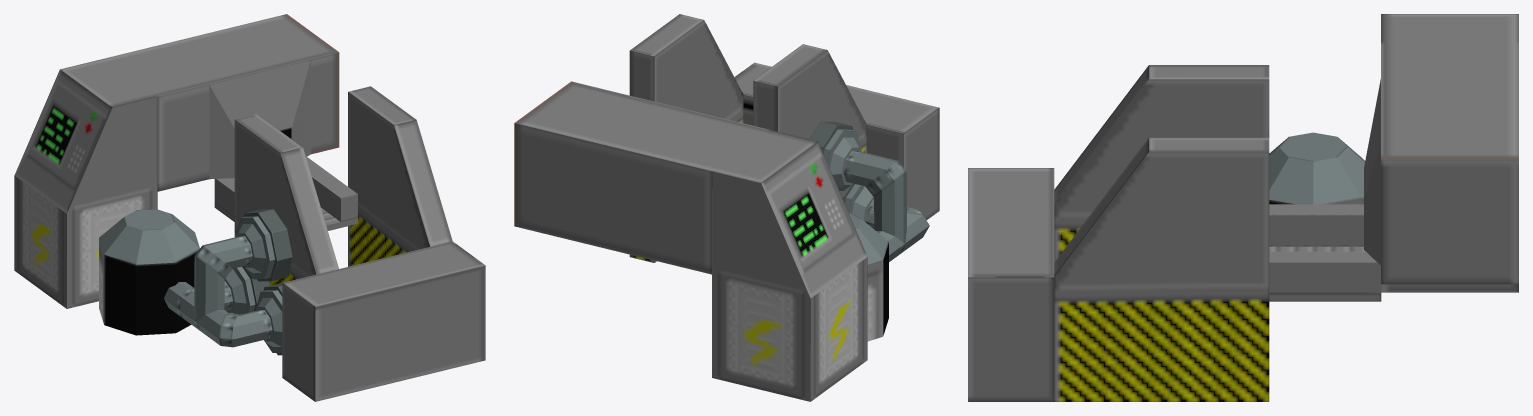
File: rollingmachine_multiblock.obj
3 renders of one model, left to right at view 1: azimuth 30°, elevation 25°; view 2: azimuth 150°, elevation 25°; view 3: azimuth 270°, elevation 25°, orthographic. The views are drawn at different scales.
Visible parts, largest first — view 1: Hull; view 2: Hull; view 3: Hull.
Part boxes in pixels (left/top/right/bottom): Hull: left=14, top=14, right=485, bottom=401; Hull: left=514, top=14, right=939, bottom=401; Hull: left=968, top=14, right=1518, bottom=401.
Bounding box in the file's own units: 3 × 2 × 4.
